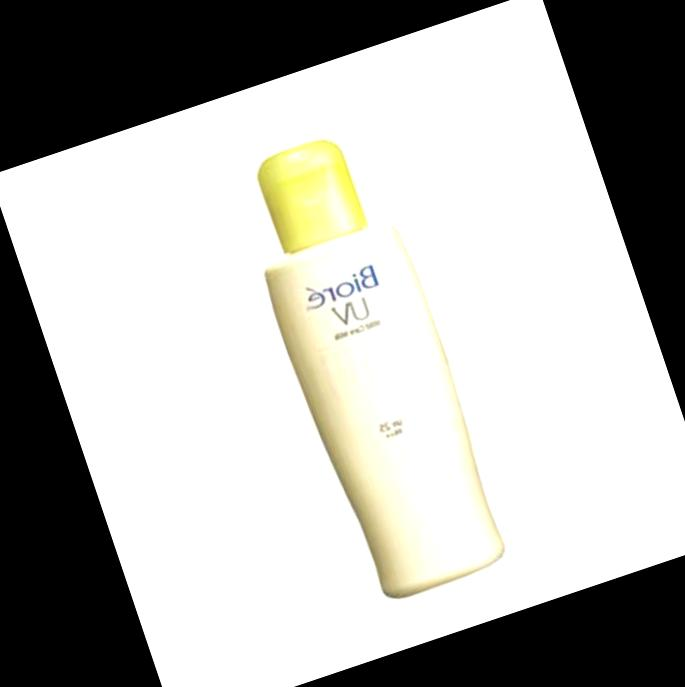cosmetic: (225, 118, 515, 607)
